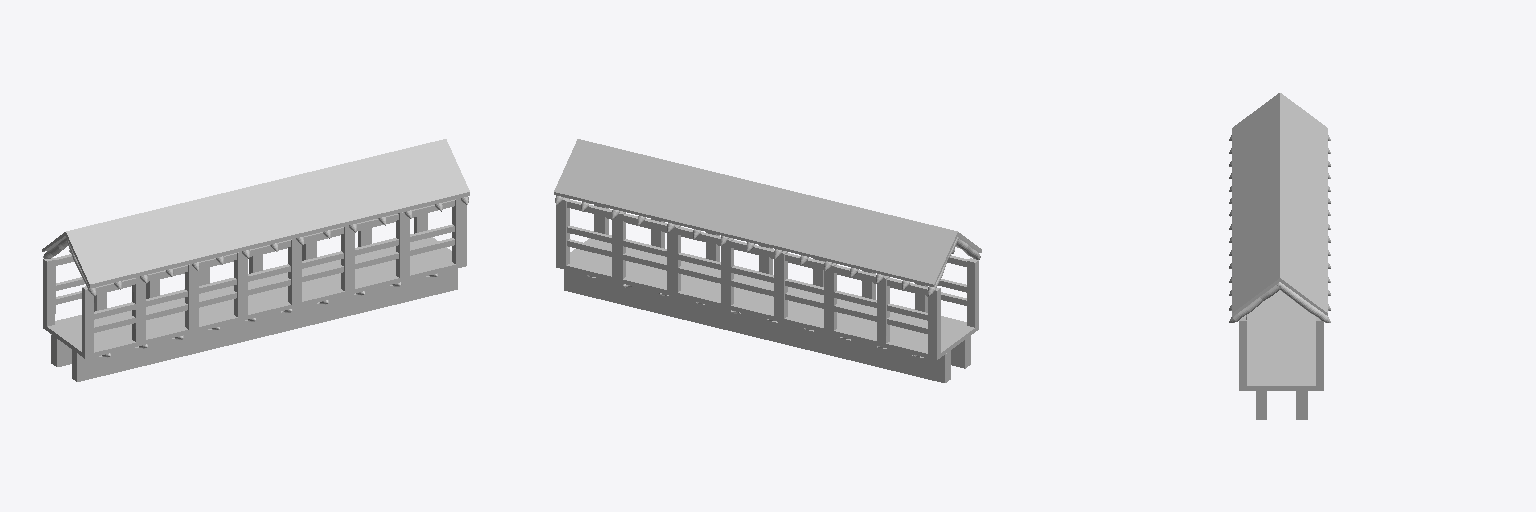
Rendered from lumberjack.obj.
3 renders of one model, left to right at view 1: azimuth 30°, elevation 25°; view 2: azimuth 150°, elevation 25°; view 3: azimuth 270°, elevation 25°, orthographic.
Parts seen in each view (by area): view 1: Railing; view 2: Railing; view 3: Railing.
Boxes of the visible parts, box(x1,y1,x2,y2) form: Railing: box(42, 139, 469, 381); Railing: box(554, 139, 981, 382); Railing: box(1229, 93, 1330, 419).
Size of the model in its own units: 6.49 by 2.3 by 1.51.